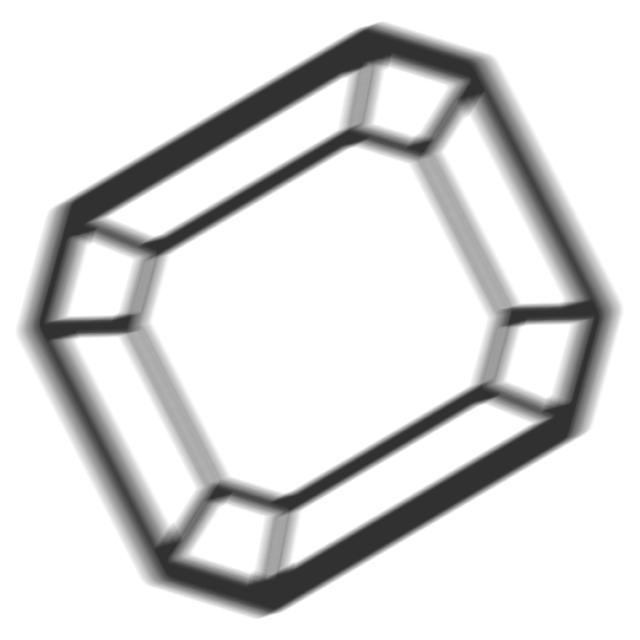emerald: (10, 16, 626, 631)
